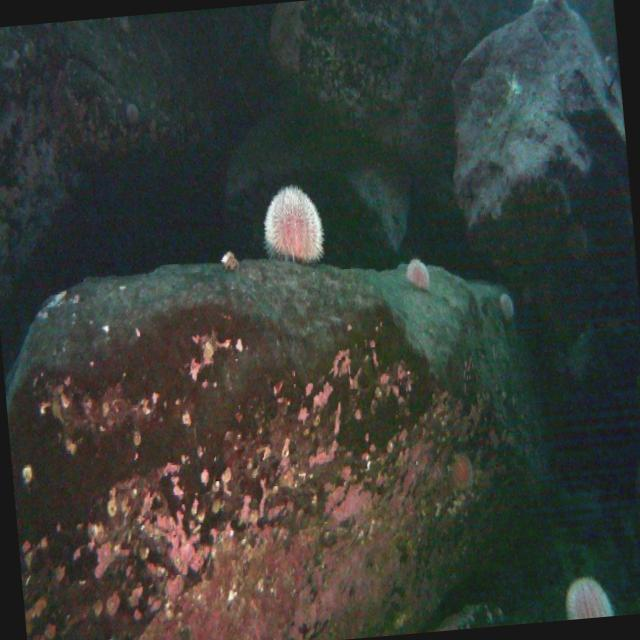Deniz Kestanesi: (258, 181, 327, 266), (562, 572, 614, 620), (404, 256, 430, 294), (452, 455, 474, 491), (499, 292, 514, 322), (126, 102, 139, 125), (531, 0, 548, 8)
